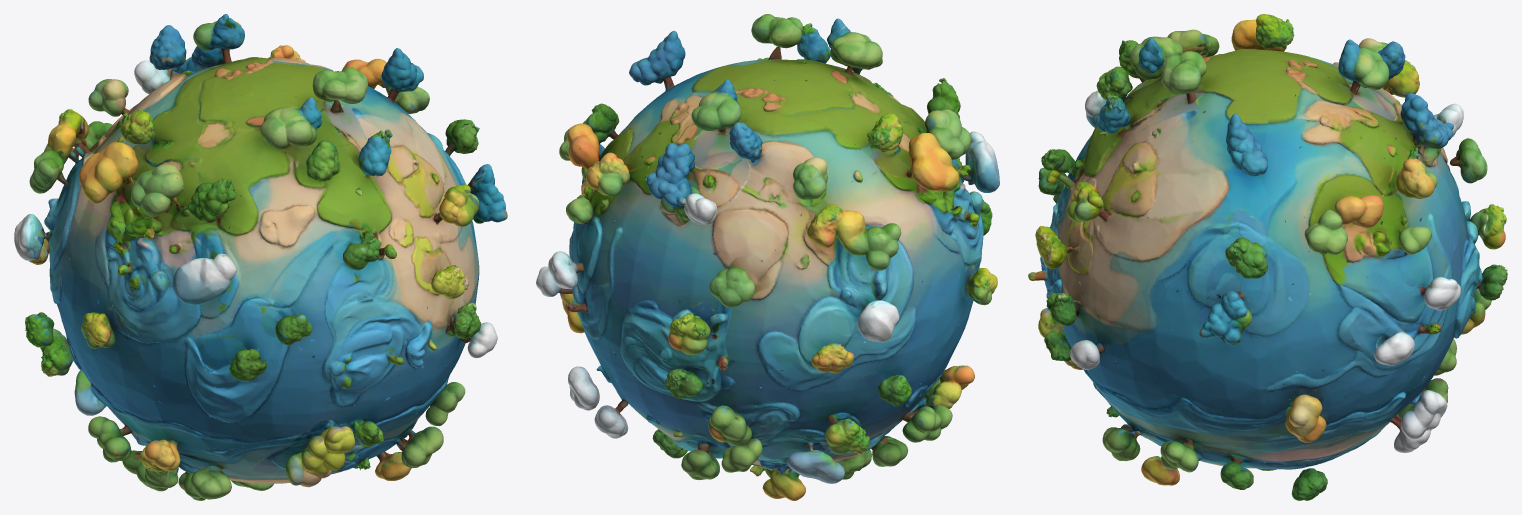
Rendered from Miniature_World_Globe_1101040838_texture_draco.glb.
3 renders of one model, left to right at view 1: azimuth 30°, elevation 25°; view 2: azimuth 150°, elevation 25°; view 3: azimuth 270°, elevation 25°, orthographic. The views are drawn at different scales.
Size of the model in its own units: 1.98 by 1.99 by 1.99.
Materials: 1 (1 with a texture image).
